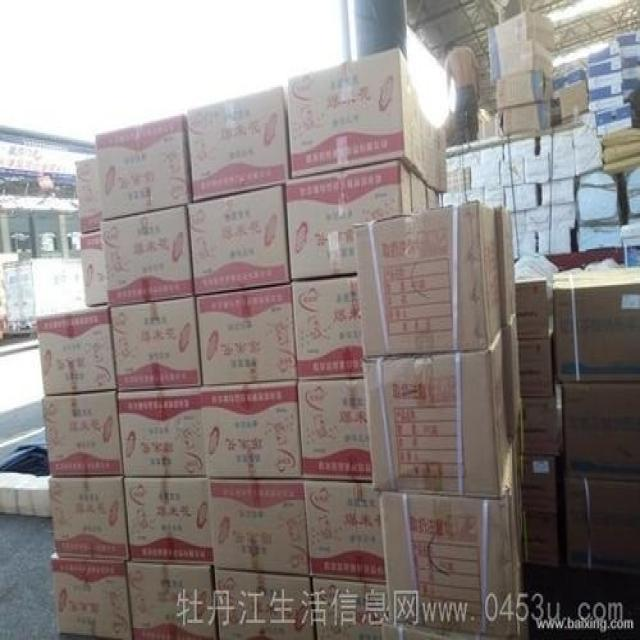box: (379, 442, 520, 637), (362, 326, 508, 495), (353, 200, 502, 358), (287, 48, 425, 181), (285, 160, 412, 280), (186, 85, 291, 200), (188, 186, 291, 295), (195, 283, 298, 386), (96, 114, 192, 220), (200, 381, 302, 480), (207, 480, 310, 577), (100, 205, 195, 307), (553, 271, 640, 381), (110, 297, 201, 393), (303, 481, 387, 585), (118, 389, 207, 478), (124, 478, 214, 565), (562, 381, 640, 481), (297, 377, 371, 481), (292, 275, 364, 379), (125, 560, 219, 638), (37, 305, 116, 396), (50, 553, 132, 640), (215, 568, 314, 640), (566, 480, 640, 575), (49, 476, 131, 560), (44, 391, 123, 478), (312, 579, 389, 638), (489, 41, 553, 87), (488, 12, 554, 53), (520, 454, 557, 517), (381, 621, 503, 640), (502, 312, 520, 437), (497, 70, 553, 109), (81, 232, 109, 309), (521, 396, 557, 454), (76, 157, 102, 236), (513, 280, 547, 340), (518, 338, 552, 398), (497, 201, 513, 324), (524, 512, 558, 567), (503, 101, 550, 135), (421, 111, 438, 191), (410, 169, 428, 212), (436, 128, 447, 191), (426, 186, 440, 210)
